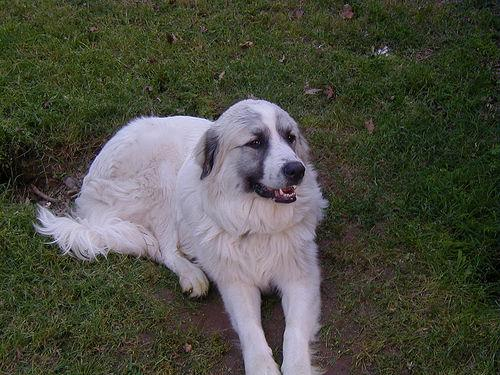dog-great_pyrenees: (192, 98, 304, 202)
